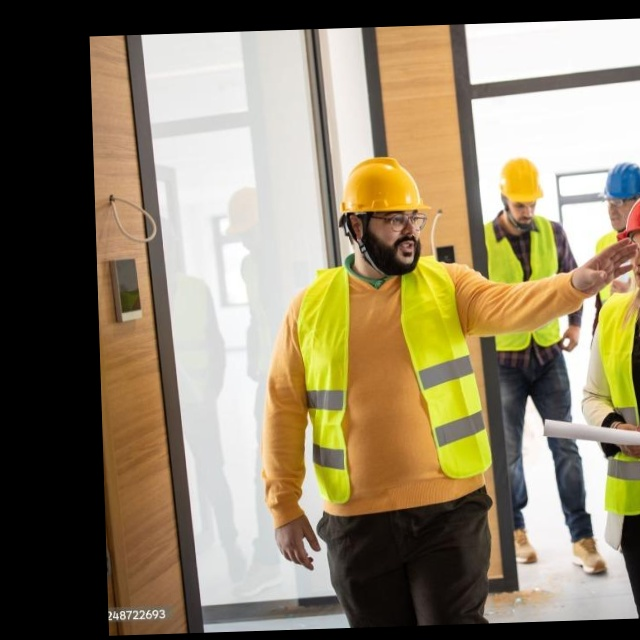Con_Casco: (338, 155, 433, 280)
Con_Chaleco: (302, 259, 495, 502), (482, 213, 567, 353)
